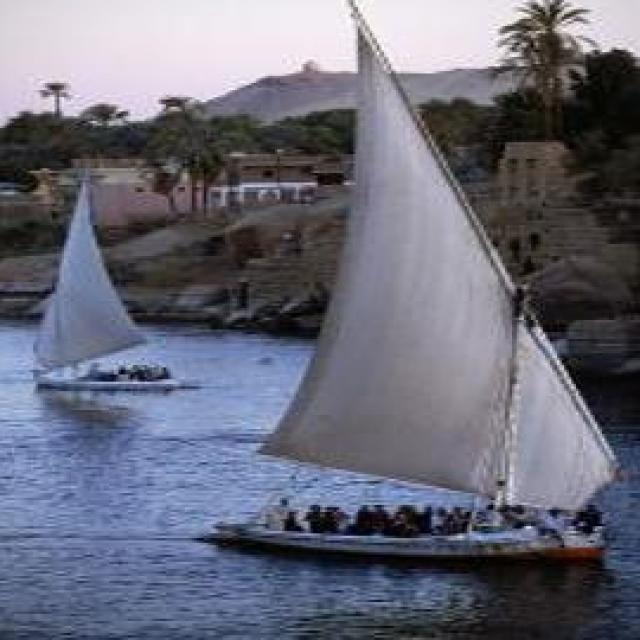sailboat: (206, 0, 624, 550), (21, 178, 189, 393)
